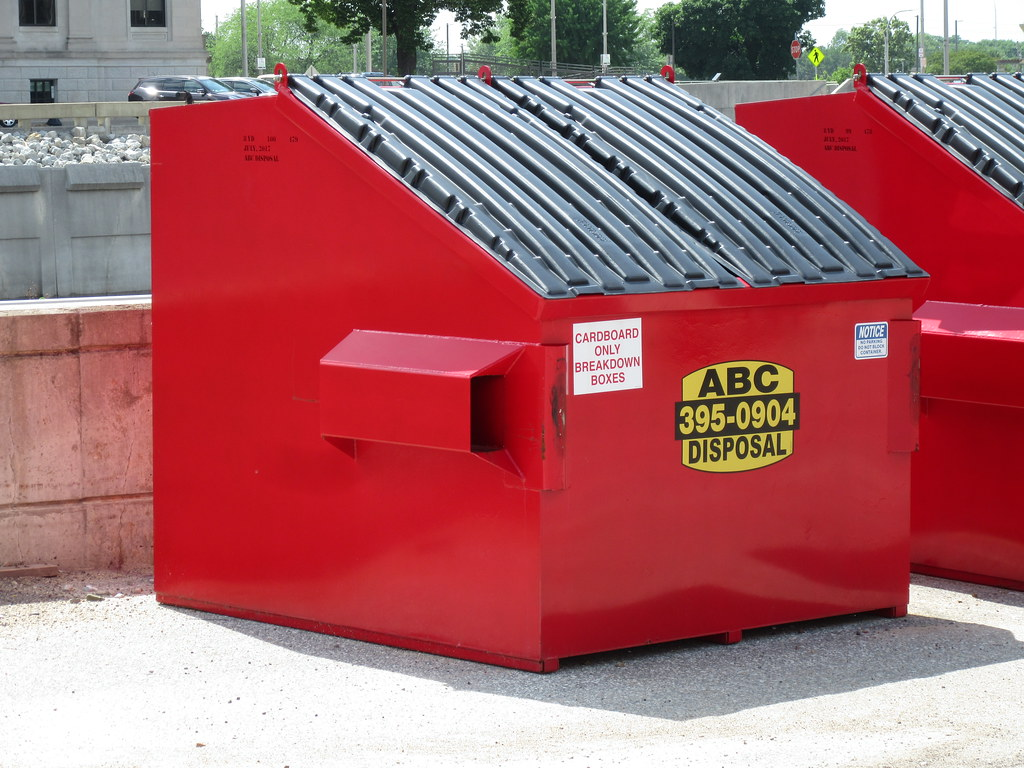Dumpster: (130, 64, 941, 656), (715, 61, 1024, 576)
